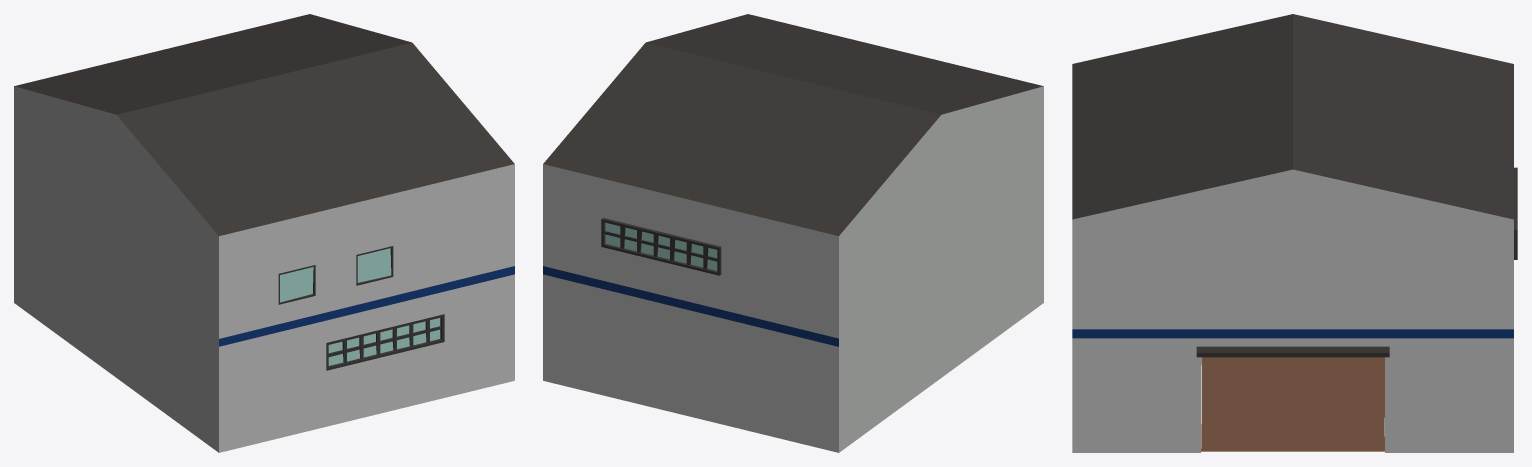
File: SM_Factory_Warehouse_02.glb
3 views of the same model, side by side, from view 1: azimuth 30°, elevation 25°; view 2: azimuth 150°, elevation 25°; view 3: azimuth 270°, elevation 25° (orthographic). The views are drawn at different scales.
Visible parts, largest first — view 1: SM_Factory_Warehouse_02; view 2: SM_Factory_Warehouse_02; view 3: SM_Factory_Warehouse_02.
Part boxes in pixels (bbox=[...]): SM_Factory_Warehouse_02: bbox=[14, 14, 514, 452]; SM_Factory_Warehouse_02: bbox=[543, 14, 1043, 452]; SM_Factory_Warehouse_02: bbox=[1072, 14, 1517, 452].
Size of the model in its own units: 10.41 by 8.5 by 12.11.
Materials: 1 (1 with a texture image).
